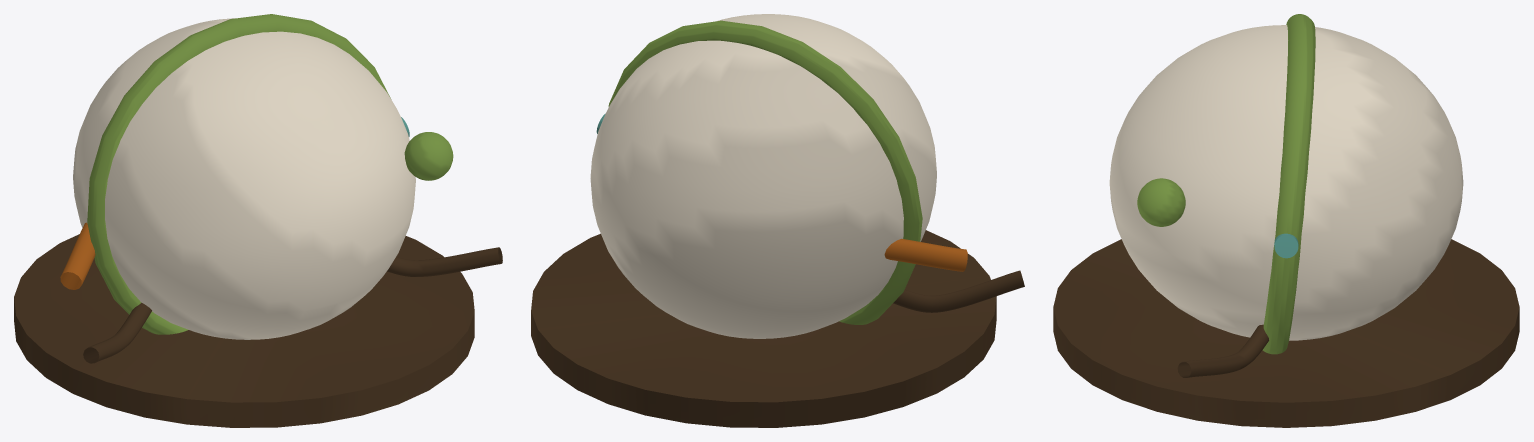
The model's file is 0421_微生物图鉴_榛蘑.glb.
The picture shows the model from 3 angles, left to right: view 1: azimuth 30°, elevation 25°; view 2: azimuth 150°, elevation 25°; view 3: azimuth 270°, elevation 25°; orthographic projection.
Visible parts, largest first — view 1: card_0421; view 2: card_0421; view 3: card_0421.
Boxes of the visible parts, bbox=[...] form: card_0421: bbox=[14, 14, 502, 427]; card_0421: bbox=[531, 14, 1024, 427]; card_0421: bbox=[1053, 14, 1519, 427].
Size of the model in its own units: 1.38 by 1 by 1.35.
